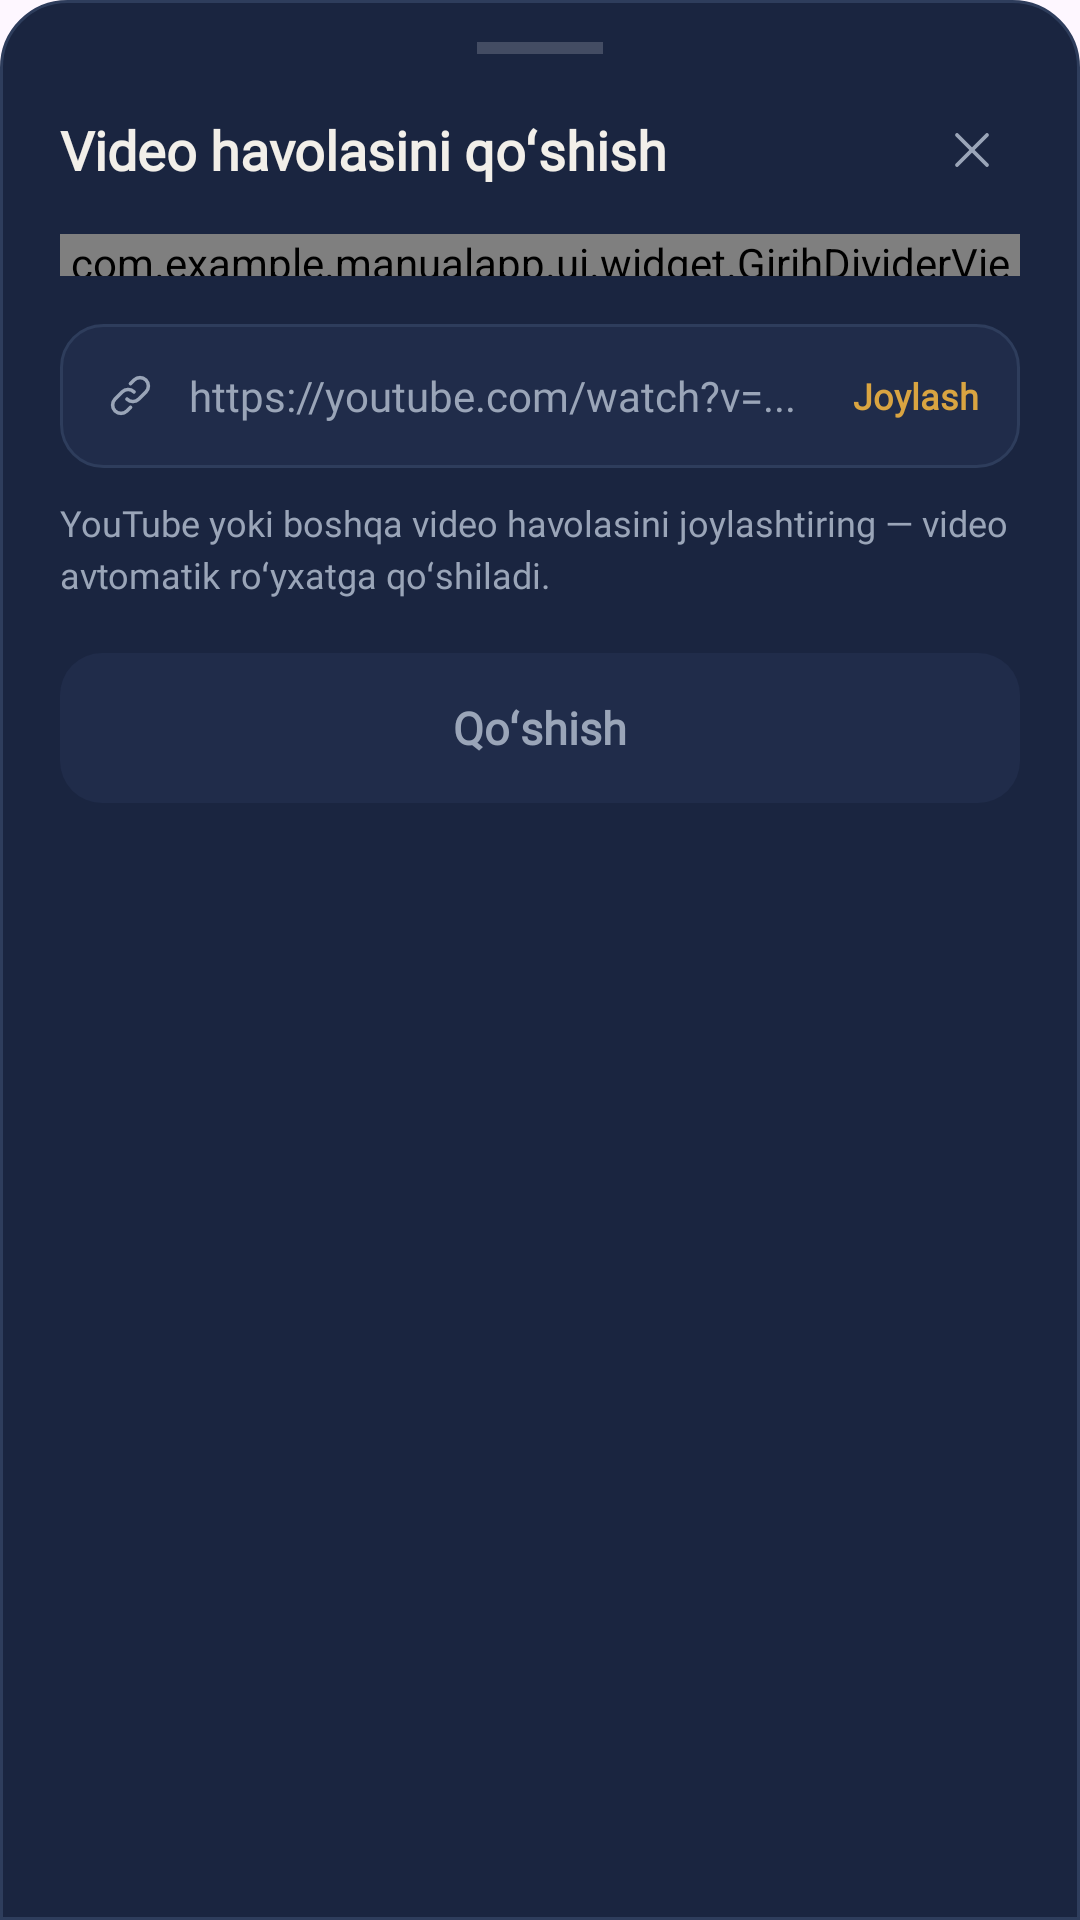

Named icons in this screenshot (1080*1920) and their centers, [x,y]:
link: [130,395]
Yopish: [972,150]
